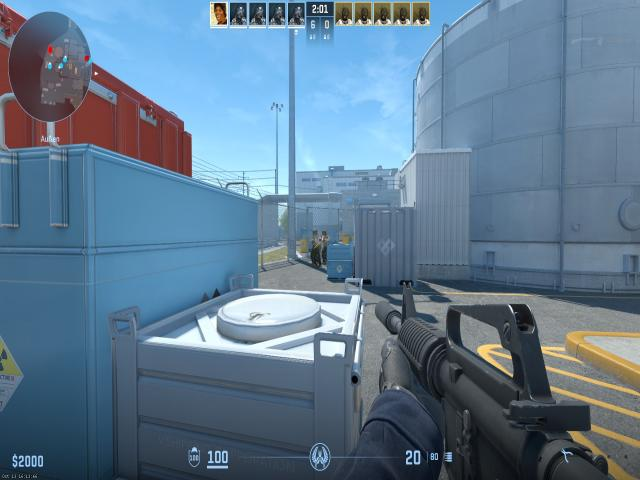T: (314, 231, 320, 266), (323, 232, 329, 263), (311, 231, 314, 263), (322, 231, 324, 262)
T-Head: (315, 231, 318, 236), (324, 232, 327, 236), (312, 231, 314, 235), (322, 231, 324, 235)
